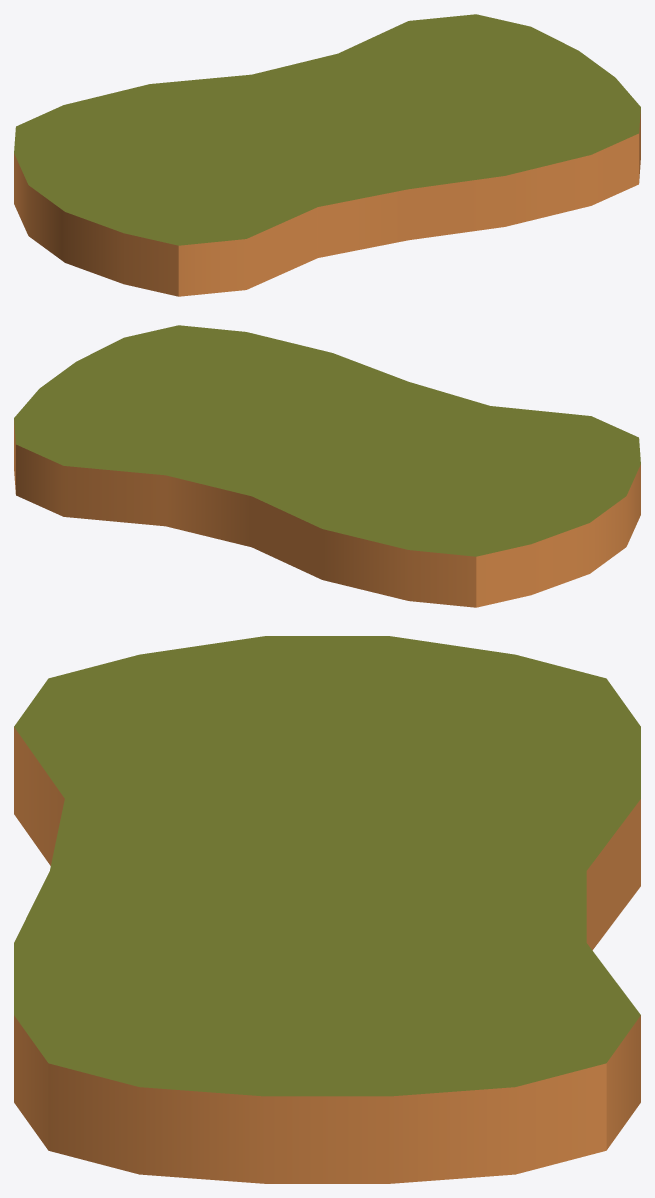
File: Wall v2 Base.fbx
3 views of the same model, one above another, from view 1: azimuth 30°, elevation 25°; view 2: azimuth 150°, elevation 25°; view 3: azimuth 270°, elevation 25° (orthographic). The views are drawn at different scales.
Parts seen in each view (by area): view 1: polySurface42; view 2: polySurface42; view 3: polySurface42.
Boxes of the visible parts, <box> form: polySurface42: <box>14,14,640,296</box>; polySurface42: <box>14,325,640,607</box>; polySurface42: <box>14,636,640,1183</box>.
Bounding box in the file's own units: 870 × 77.01 × 501.
